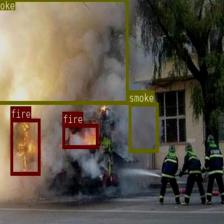fire: (10, 118, 40, 175), (62, 124, 98, 148)
smoke: (0, 0, 128, 104), (128, 102, 158, 152)
